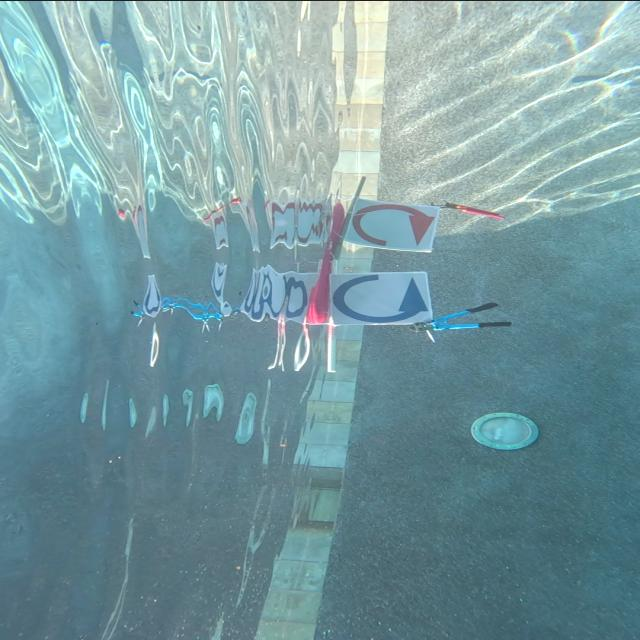blue_side: (330, 270, 432, 326)
red_side: (344, 203, 440, 250)
